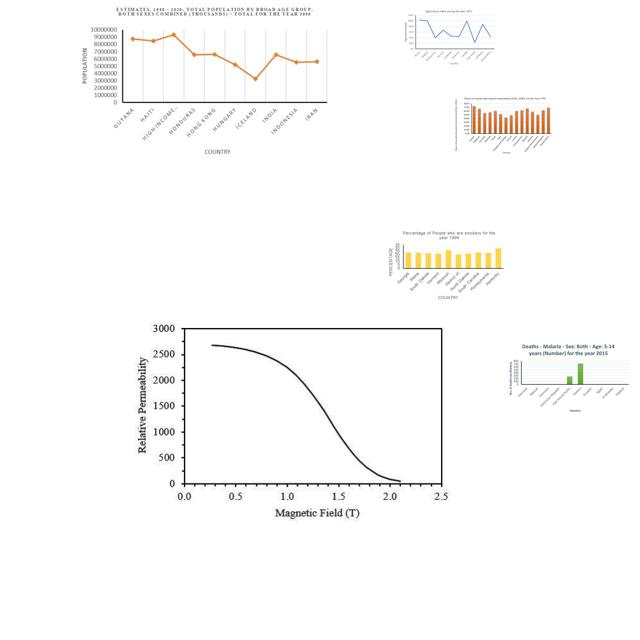Graph: (131, 314, 457, 526), (80, 4, 333, 155), (506, 342, 629, 414), (386, 229, 506, 302), (453, 95, 556, 157), (402, 8, 496, 65)
